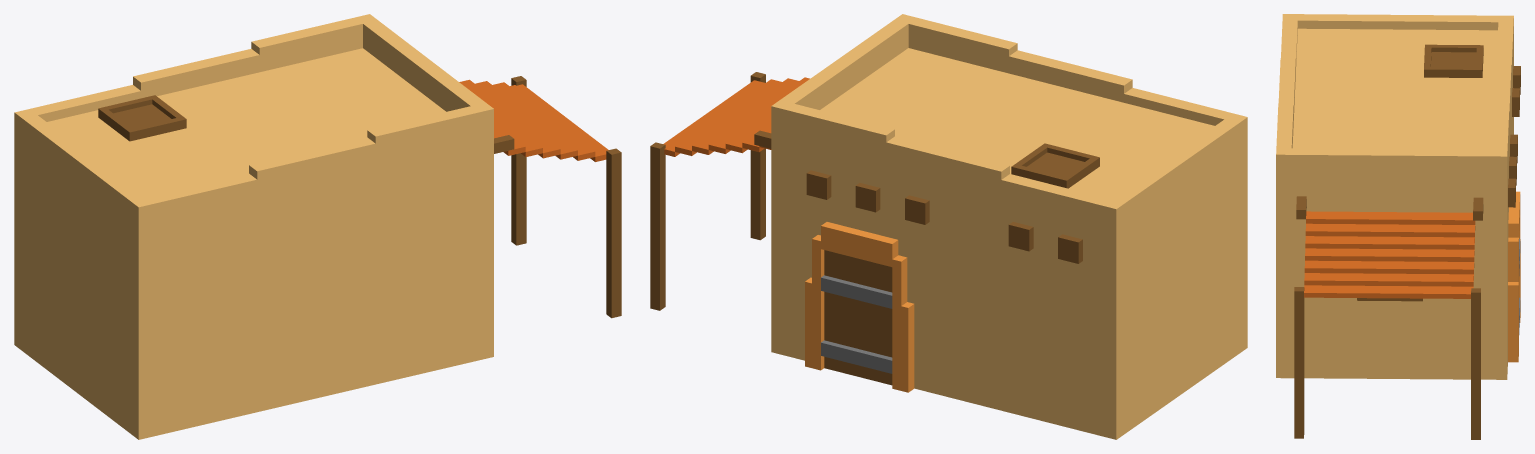
Rendered from house.fbx.
3 views of the same model, side by side, from view 1: azimuth 30°, elevation 25°; view 2: azimuth 150°, elevation 25°; view 3: azimuth 270°, elevation 25° (orthographic). The views are drawn at different scales.
Parts seen in each view (by area): view 1: house; view 2: house; view 3: house.
Part boxes in pixels (left/top/right/bottom): house: left=14, top=14, right=621, bottom=439; house: left=650, top=14, right=1247, bottom=439; house: left=1276, top=14, right=1520, bottom=439.
Size of the model in its own units: 156 by 74.97 by 74.46.
